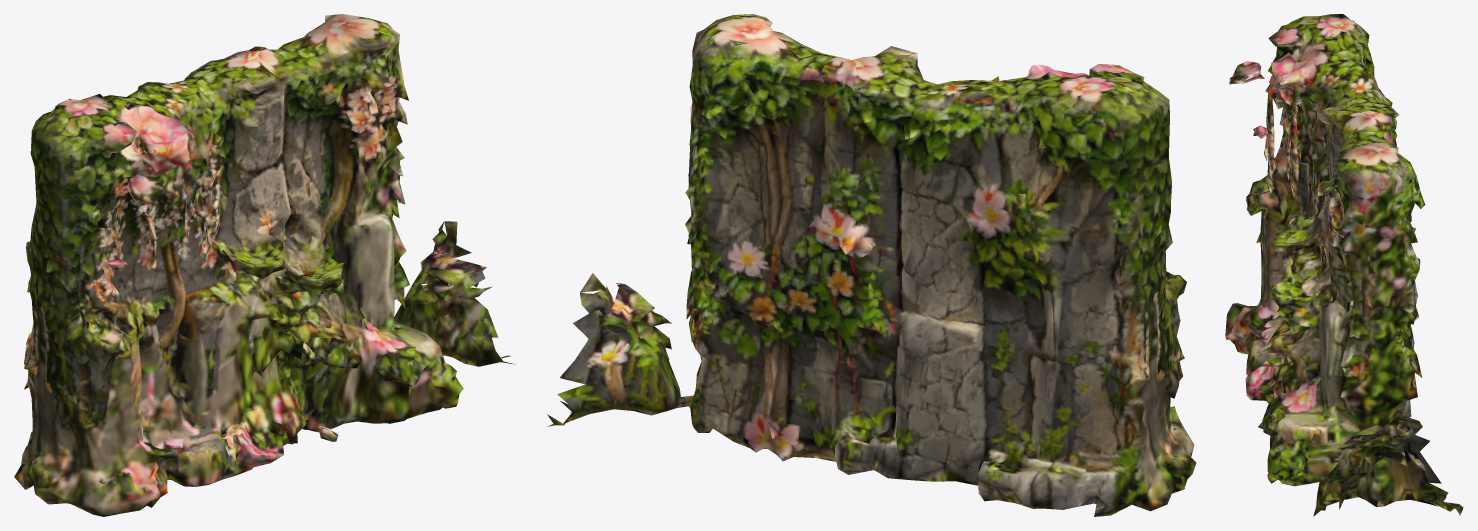
Rendered from SpringDecor_BossRoom_BlossomWall.fbx.
The picture shows the model from 3 angles, left to right: view 1: azimuth 30°, elevation 25°; view 2: azimuth 150°, elevation 25°; view 3: azimuth 270°, elevation 25°; orthographic projection. The views are drawn at different scales.
Visible parts, largest first — view 1: SpringDecor_BossRoom_BlossomWall_Mesh; view 2: SpringDecor_BossRoom_BlossomWall_Mesh; view 3: SpringDecor_BossRoom_BlossomWall_Mesh.
Part boxes in pixels (x1,y1,x2,y2): SpringDecor_BossRoom_BlossomWall_Mesh: [14, 14, 515, 516]; SpringDecor_BossRoom_BlossomWall_Mesh: [547, 14, 1196, 516]; SpringDecor_BossRoom_BlossomWall_Mesh: [1225, 14, 1463, 516].
Size of the model in its own units: 6 by 4.3 by 2.86.
1 material, 1 textured.
